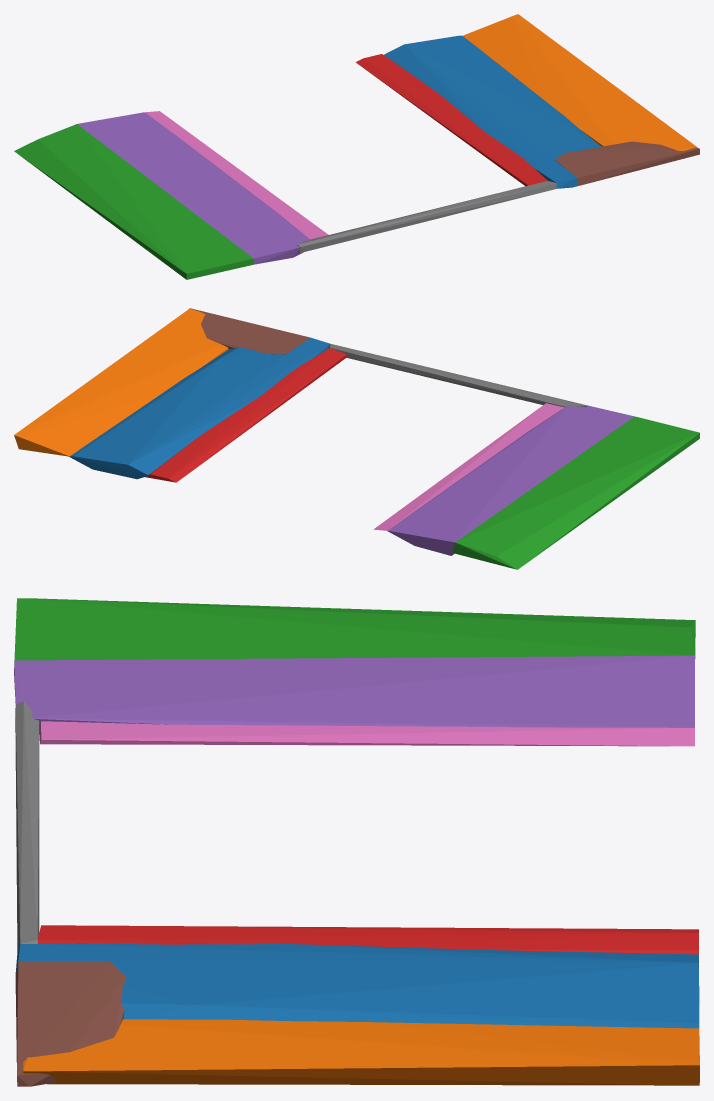
Rendered from Curtains_02_cvx.obj.
The picture shows the model from 3 angles, top to bottom: view 1: azimuth 30°, elevation 25°; view 2: azimuth 150°, elevation 25°; view 3: azimuth 270°, elevation 25°; orthographic projection. The views are drawn at different scales.
Visible parts, largest first — view 1: scenes/apartment_0000_coacd/output/Unknown/Curtains_02/cvx/Curta; view 2: scenes/apartment_0000_coacd/output/Unknown/Curtains_02/cvx/Curta; view 3: scenes/apartment_0000_coacd/output/Unknown/Curtains_02/cvx/Curta.
Boxes of the visible parts, x1,y1,x2,y2 form: scenes/apartment_0000_coacd/output/Unknown/Curtains_02/cvx/Curta: (14,14,699,279); scenes/apartment_0000_coacd/output/Unknown/Curtains_02/cvx/Curta: (14,308,699,569); scenes/apartment_0000_coacd/output/Unknown/Curtains_02/cvx/Curta: (14,598,699,1086).
Size of the model in its own units: 5.08 by 0.148 by 3.08.
